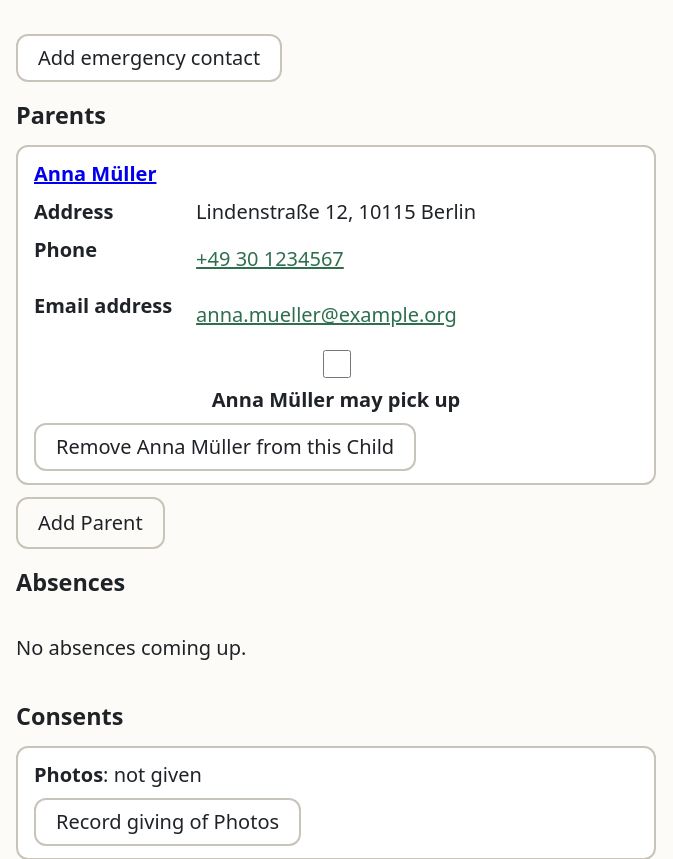
Test: Parents › lets an Admin remove a Parent from a Child
(page scrolled)
Click the button "Remove Anna Müller from this Child".
click(225, 447)  # box [34, 423, 416, 471]
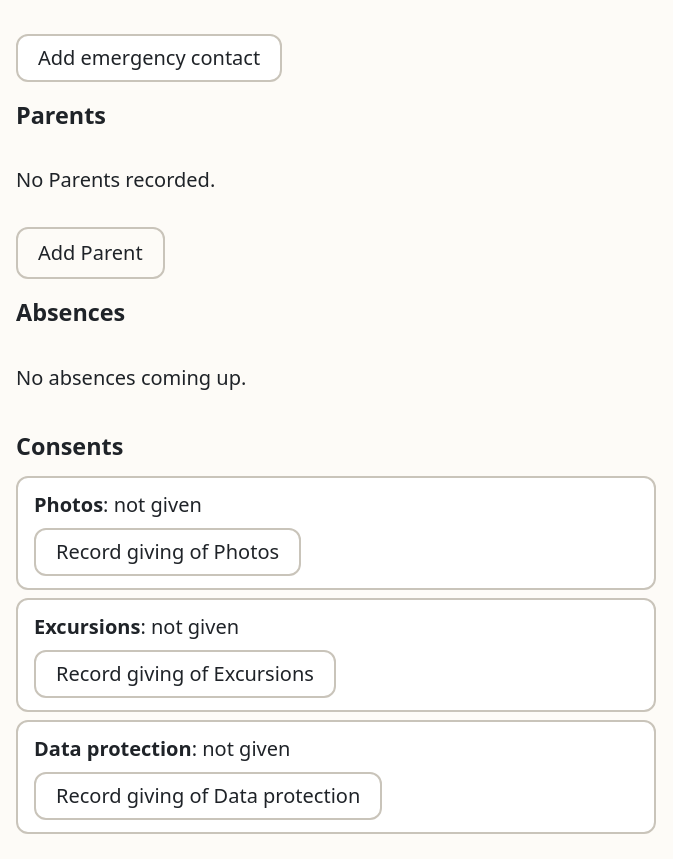
Expected: the text "No Parents recorded." is shown, [16, 165, 215, 195]
